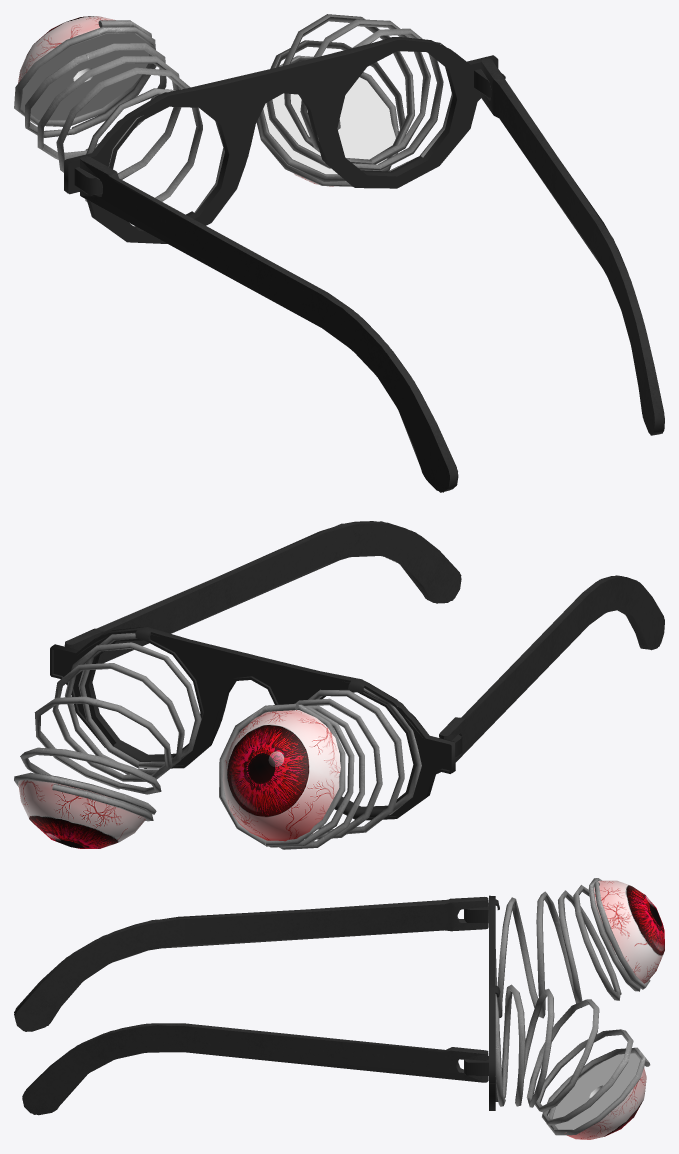
Rendered from toyGlasses.gltf.
3 views of the same model, one above another, from view 1: azimuth 30°, elevation 25°; view 2: azimuth 150°, elevation 25°; view 3: azimuth 270°, elevation 25° (orthographic). The views are drawn at different scales.
Parts seen in each view (by area): view 1: toyGlasses; view 2: toyGlasses; view 3: toyGlasses.
Part boxes in pixels (x1,y1,x2,y2): toyGlasses: (14, 14, 664, 492); toyGlasses: (14, 521, 664, 849); toyGlasses: (14, 878, 664, 1139).
Size of the model in its own units: 1.61 by 0.7539 by 2.7.
1 material, 1 textured.
